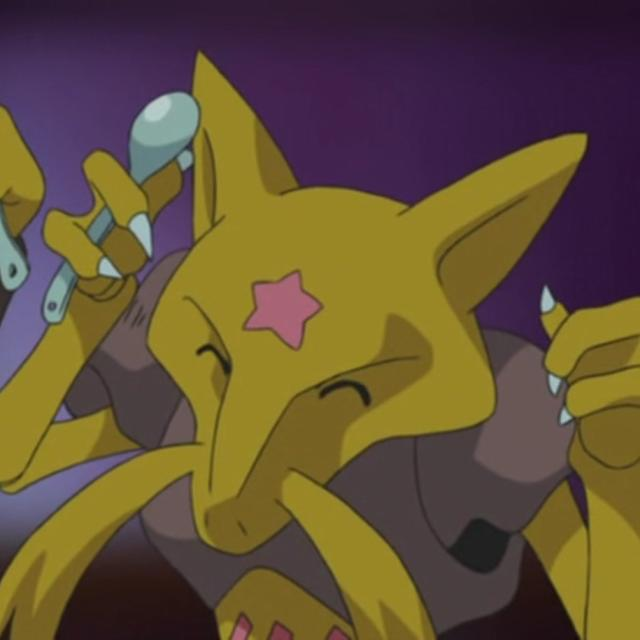Kadabra: (112, 46, 574, 640)
